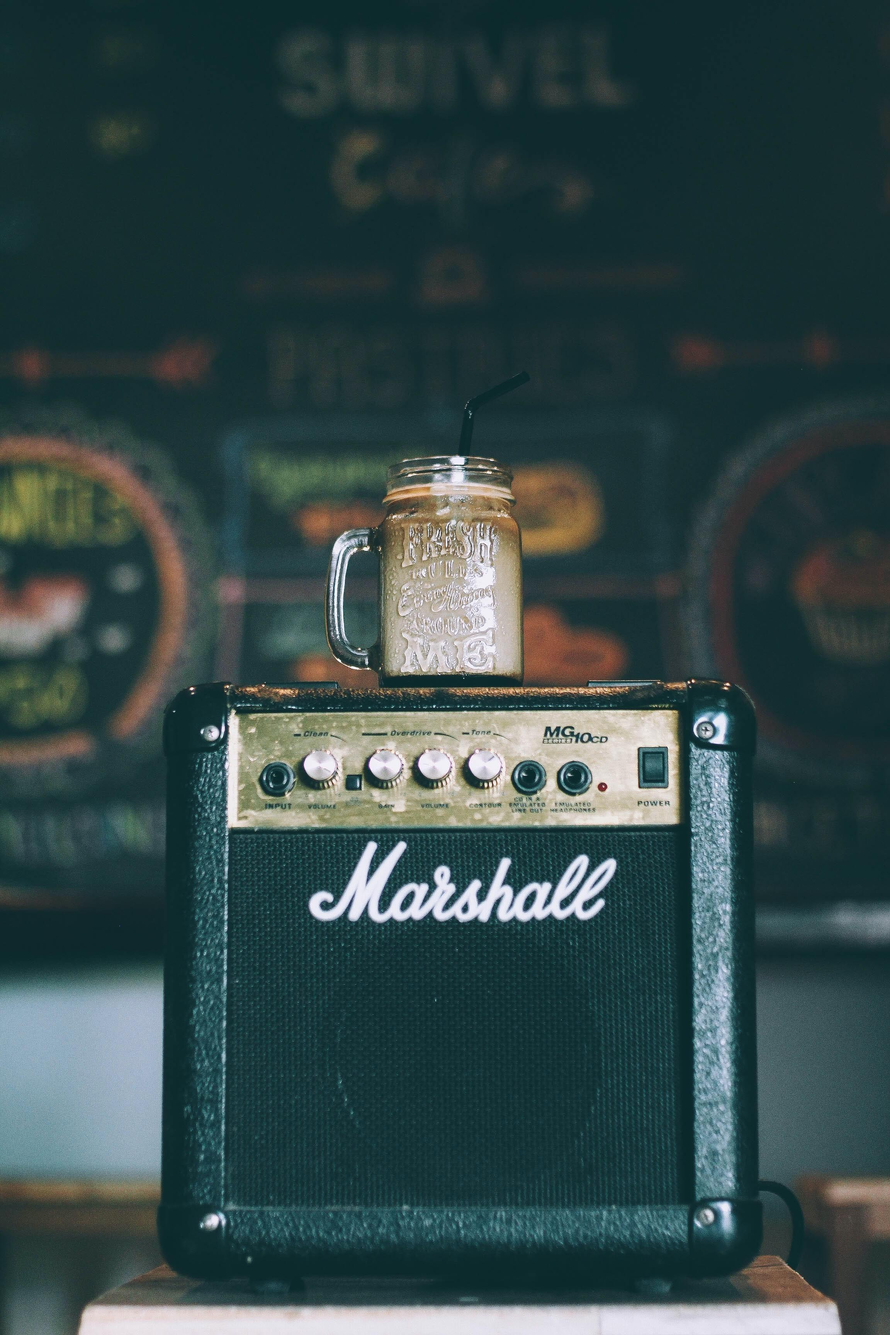glass-mug: (323, 441, 531, 691)
